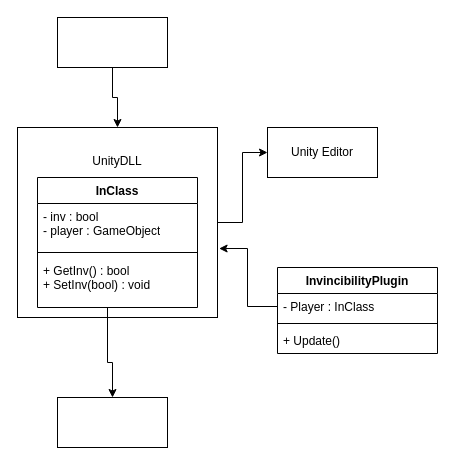
Image size: 455x465. Some labels were removed from this diagram. The shapes that lost their labels are listed below. From the top down, each one's centre as x and y in pixels, then its label:
point (112, 42): UnityEngine.DLL
point (112, 422): Player
